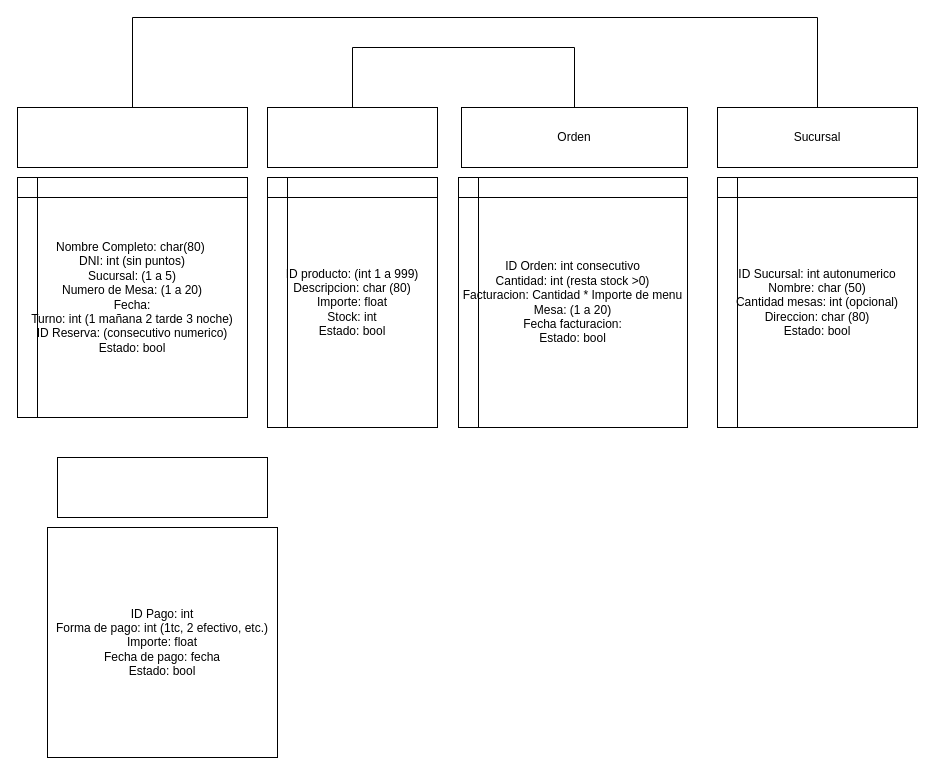
This 935x775 diagram has some shape labels left out. Here are the shapes that lost their labels. From the top down, the centre of each, then its label:
[132,137]: Reservas
[352,137]: Menu
[162,487]: Pago (Opcional) para restar de la orden
